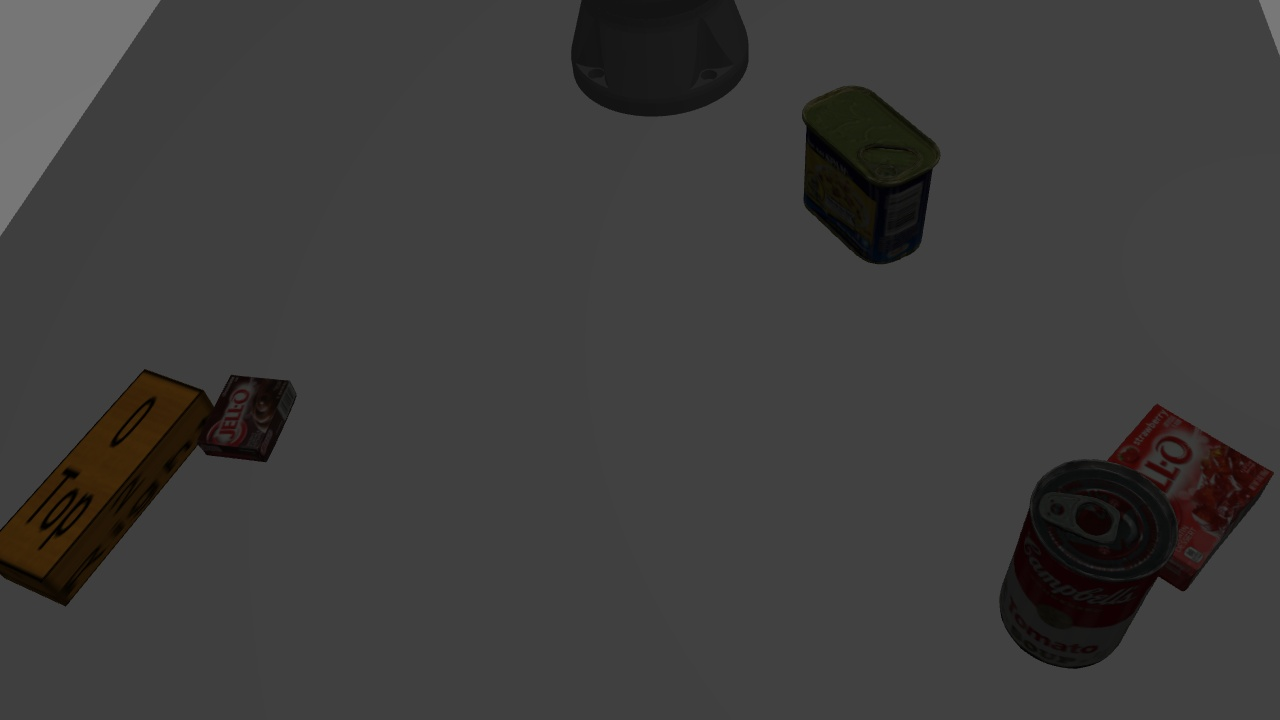gelatin_box: (1110, 404, 1163, 476)
jenga: (0, 366, 217, 618)
potted_meat_can: (799, 82, 932, 262)
pudding_box: (199, 358, 296, 463)
tomato_soup_can: (995, 443, 1181, 677)
